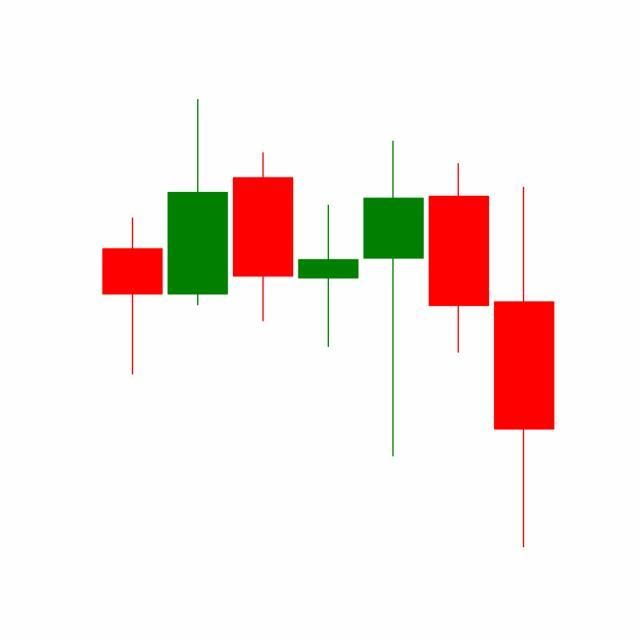Hikkake Pattern: (229, 137, 555, 548)
